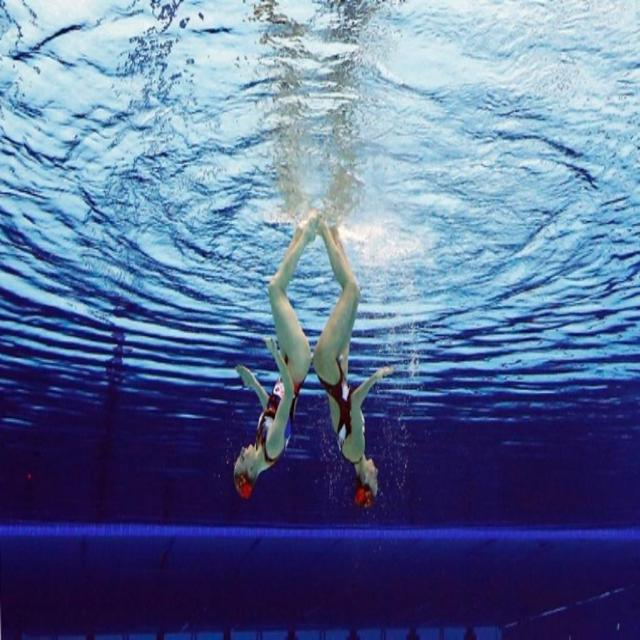nomask: (232, 442, 257, 477), (363, 458, 378, 496)
